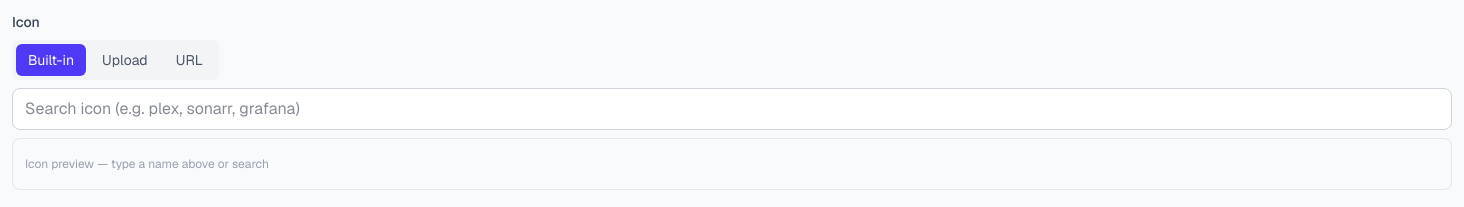
Test case: IconPicker › shows file input when upload tab is selected
The width and height of the screenshot is (1464, 207).
Click the button "Upload".
click(125, 60)  # box [90,44,160,76]
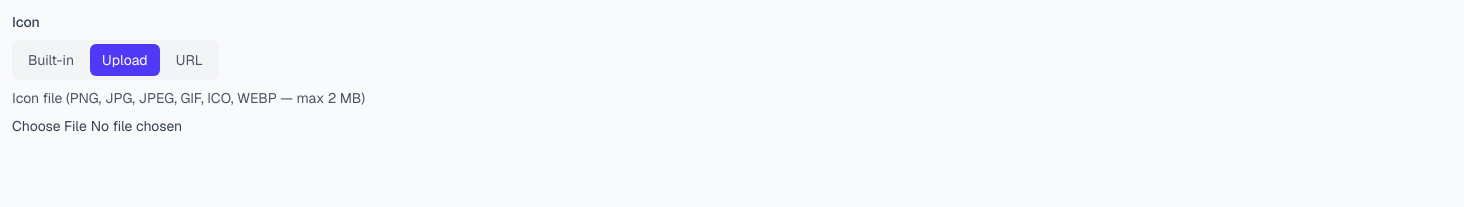
expect the file field labelled "Icon file (PNG, JPG, JPEG, GIF, ICO, WEBP — max 2 MB)" is shown: met, box [12,116,1452,136]
